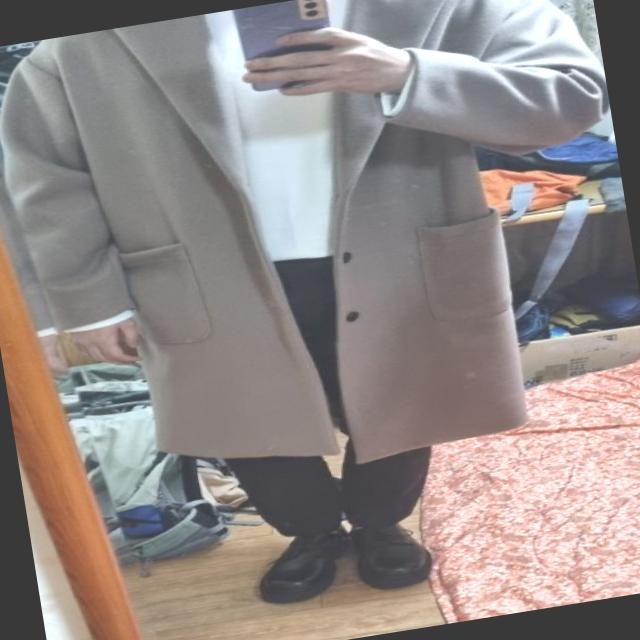coat: (0, 0, 640, 510)
slacks: (190, 232, 446, 544)
